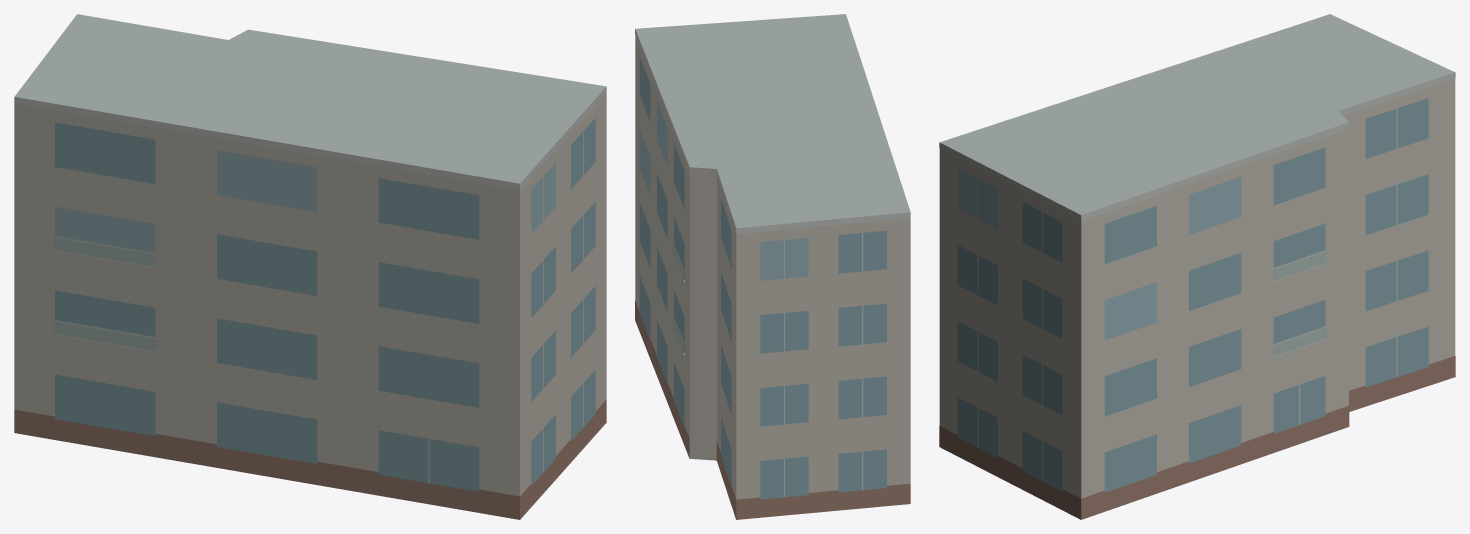
Rendered from survey-upis-32655918.glb.
The picture shows the model from 3 angles, left to right: view 1: azimuth 30°, elevation 25°; view 2: azimuth 150°, elevation 25°; view 3: azimuth 270°, elevation 25°; orthographic projection. The views are drawn at different scales.
Visible parts, largest first — view 1: survey-upis-32655918.tmp; view 2: survey-upis-32655918.tmp; view 3: survey-upis-32655918.tmp.
Boxes of the visible parts, x1=… form: survey-upis-32655918.tmp: x1=14, y1=14, x2=606, y2=519; survey-upis-32655918.tmp: x1=635, y1=14, x2=910, y2=519; survey-upis-32655918.tmp: x1=939, y1=14, x2=1455, y2=519.
Size of the model in its own units: 17.28 by 12.2 by 18.73.
